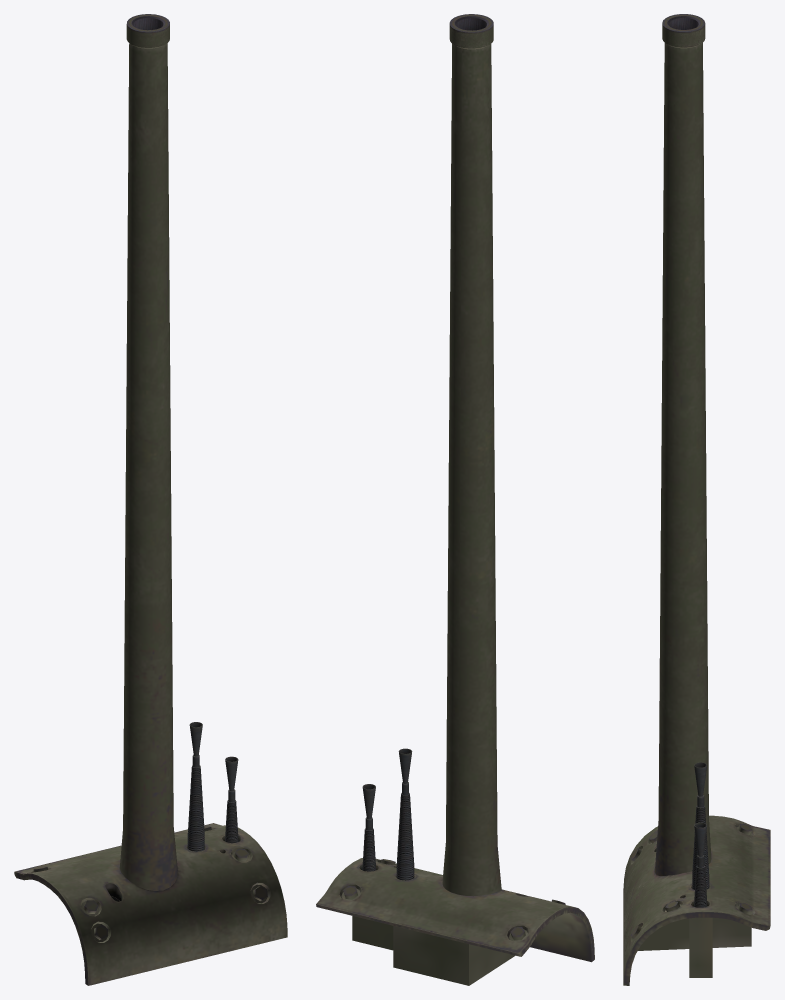
Rendered from Gun_04.glb.
3 renders of one model, left to right at view 1: azimuth 30°, elevation 25°; view 2: azimuth 150°, elevation 25°; view 3: azimuth 270°, elevation 25°, orthographic. The views are drawn at different scales.
Visible parts, largest first — view 1: set_0_group_0; view 2: set_0_group_0; view 3: set_0_group_0.
Boxes of the visible parts, x1=… form: set_0_group_0: x1=14, y1=14, x2=287, y2=985; set_0_group_0: x1=316, y1=14, x2=594, y2=985; set_0_group_0: x1=623, y1=14, x2=770, y2=985.
Size of the model in its own units: 0.8135 by 3.58 by 0.5248.
1 material, 1 textured.
